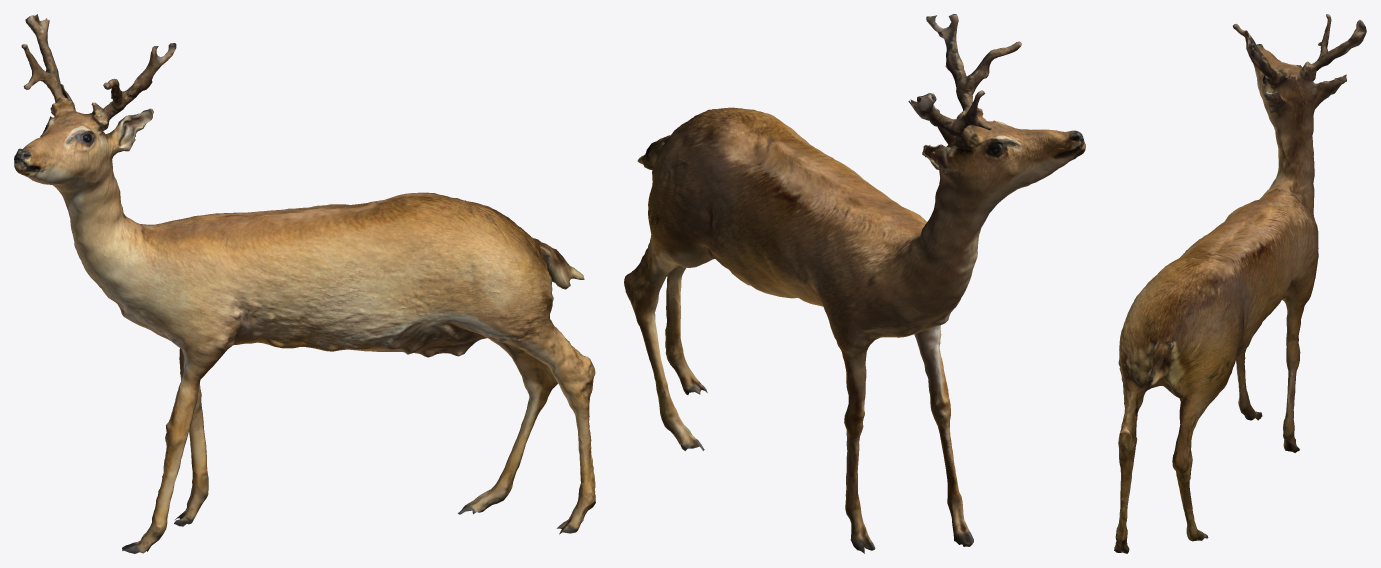
File: VENADO_DEFINITIVO.glb
3 renders of one model, left to right at view 1: azimuth 30°, elevation 25°; view 2: azimuth 150°, elevation 25°; view 3: azimuth 270°, elevation 25°, orthographic. The views are drawn at different scales.
Visible parts, largest first — view 1: Mesh_0.001; view 2: Mesh_0.001; view 3: Mesh_0.001.
Boxes of the visible parts, bbox=[...] form: Mesh_0.001: bbox=[14, 14, 595, 553]; Mesh_0.001: bbox=[624, 14, 1085, 553]; Mesh_0.001: bbox=[1114, 14, 1366, 553].
Size of what is drawn, in the model's own units: 6.87 by 6.71 by 3.86.
1 material, 1 textured.
